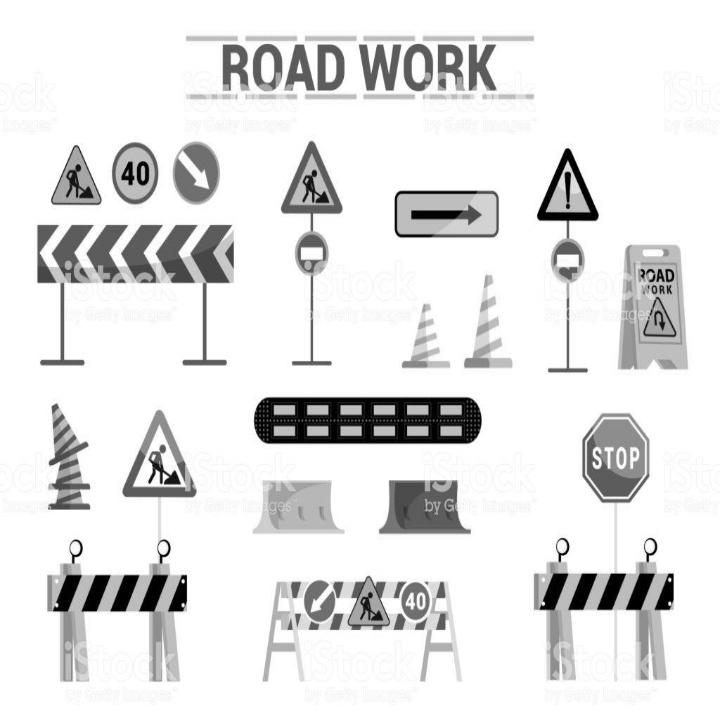const: (135, 442, 189, 490), (295, 165, 330, 203)
